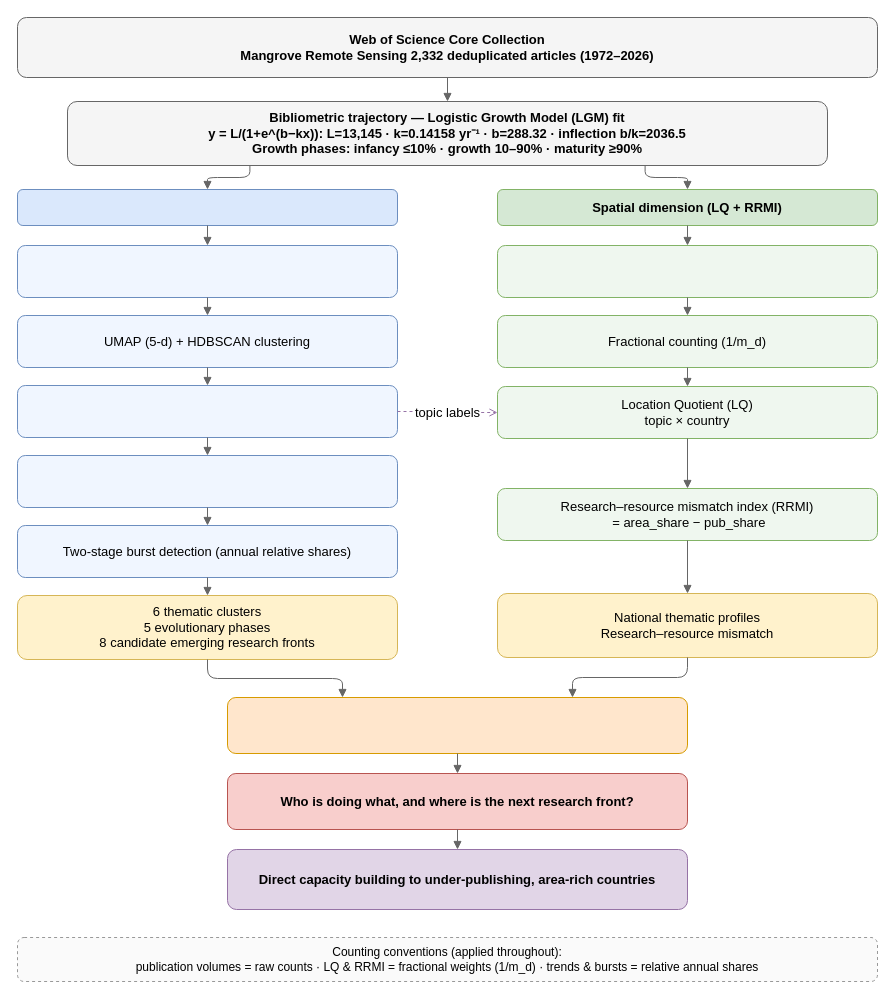
Image size: 895x999. Some labels were removed from this diagram. Here are the shapes that lost their labels. From the top down, the centre of each, then its label:
At point (207, 207): "Semantic dimension (BERTopic + LLM)".
At point (207, 271): "SciBERT embedding (768-d)".
At point (687, 271): "Author country extraction (C1)".
At point (207, 411): "BERTopic: 72 topics (771 outliers)".
At point (207, 481): "LLM topic labeling (DeepSeek-V4-Pro)".
At point (457, 725): "Overlay knowledge-production network on mangrove distribution".
